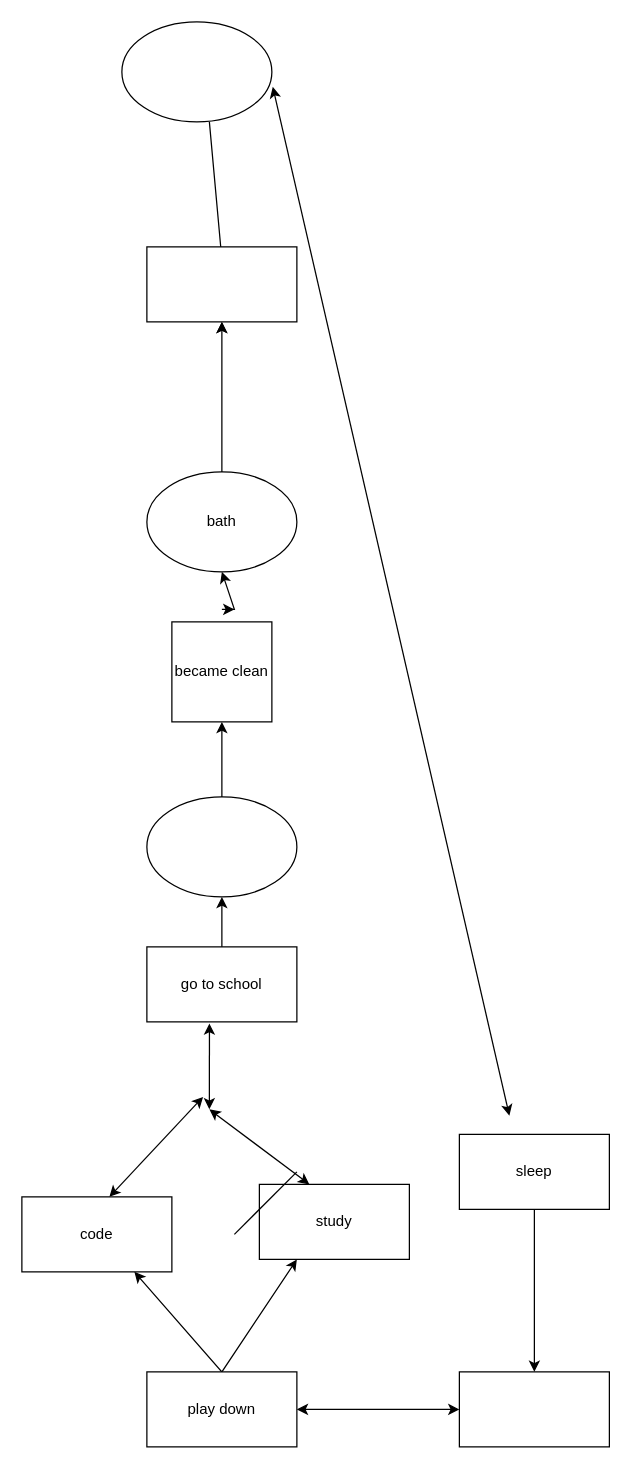
The diagram is 631 pixels wide and 1469 high, and some of its shapes have lost their labels. The box of each missing label's shape, as (x1, y1, x2, y2) in pixels:
brush: (146, 246, 297, 322)
drink milk: (146, 796, 297, 897)
eat food: (458, 1371, 609, 1447)
wake up: (121, 21, 272, 122)
